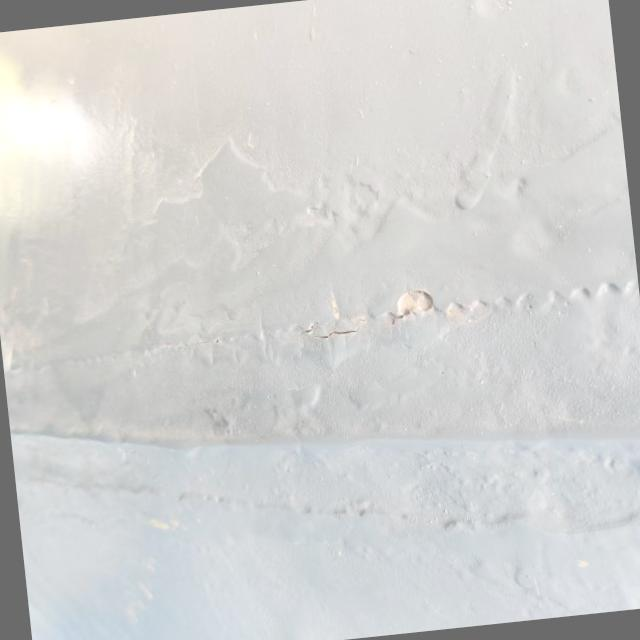crack: (272, 278, 460, 354)
